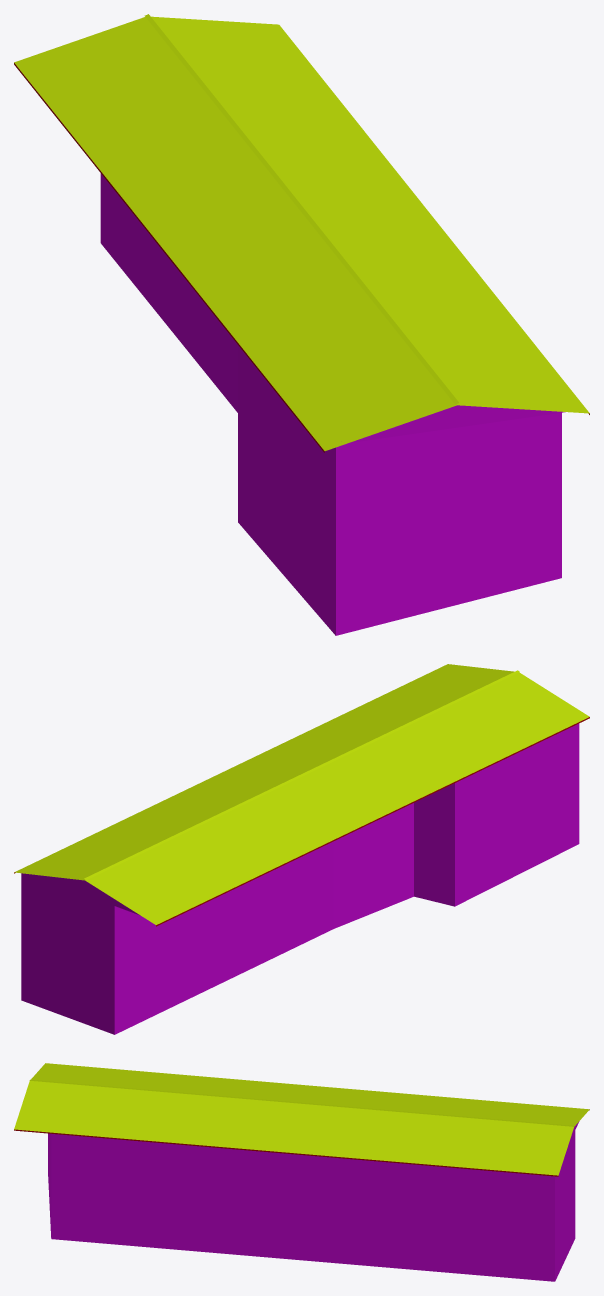
The model's file is rmc_54.glb.
3 renders of one model, top to bottom at view 1: azimuth 30°, elevation 25°; view 2: azimuth 150°, elevation 25°; view 3: azimuth 270°, elevation 25°, orthographic. The views are drawn at different scales.
Parts seen in each view (by area): view 1: rmc_54; view 2: rmc_54; view 3: rmc_54.
Boxes of the visible parts, x1,y1,x2,y2 form: rmc_54: (14,14,589,635); rmc_54: (14,664,589,1034); rmc_54: (14,1063,589,1281).
Size of the model in its own units: 24.65 by 12.78 by 53.36.
